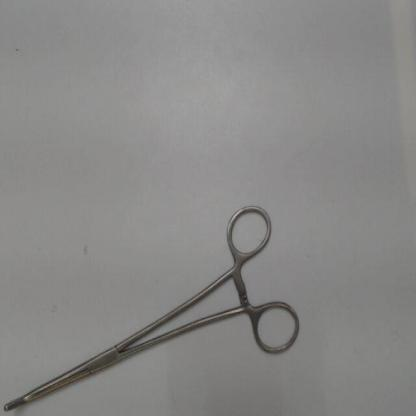Lahey Forceps: (3, 200, 306, 415)
